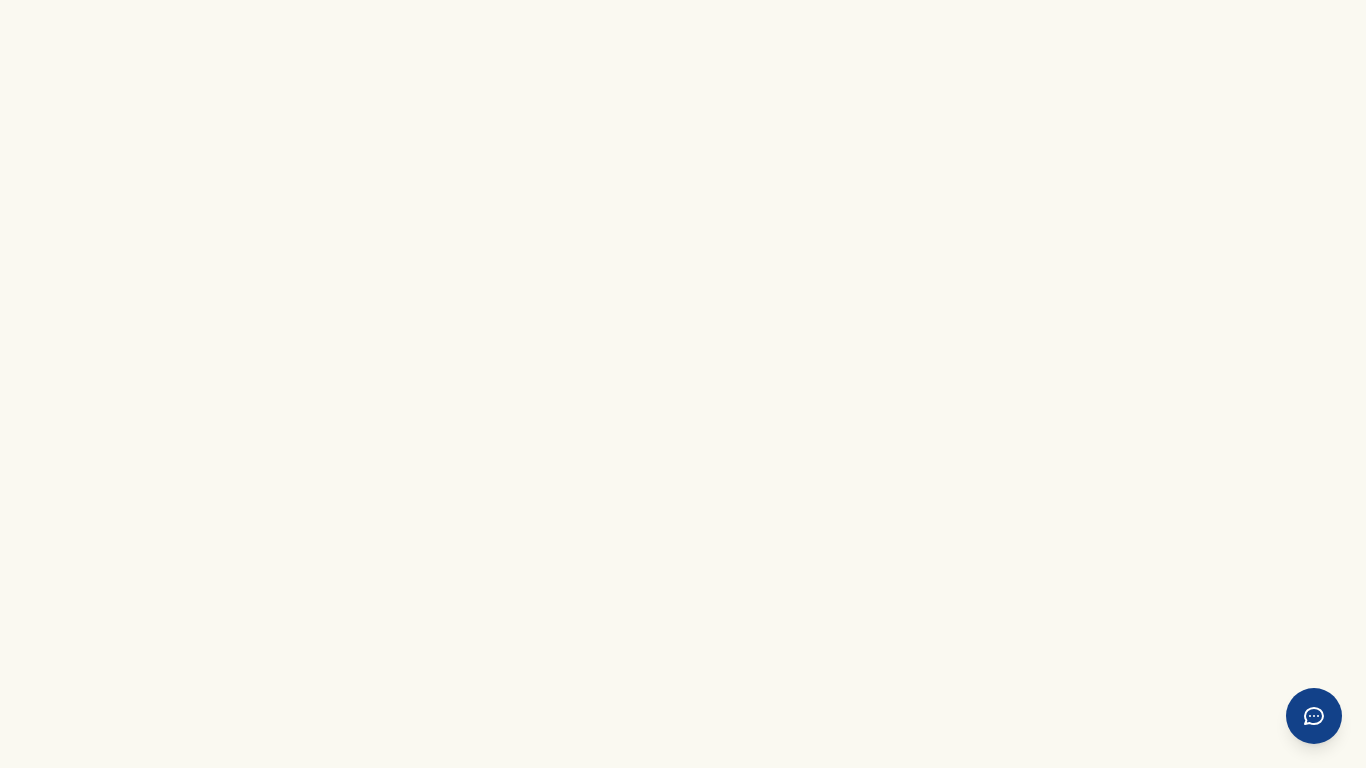
Test case: ConciergeChat › closes the panel when the close button is clicked
This screenshot has width=1366, height=768.
Click the button named "open concierge": (1314, 716) [1286,688,1342,744]
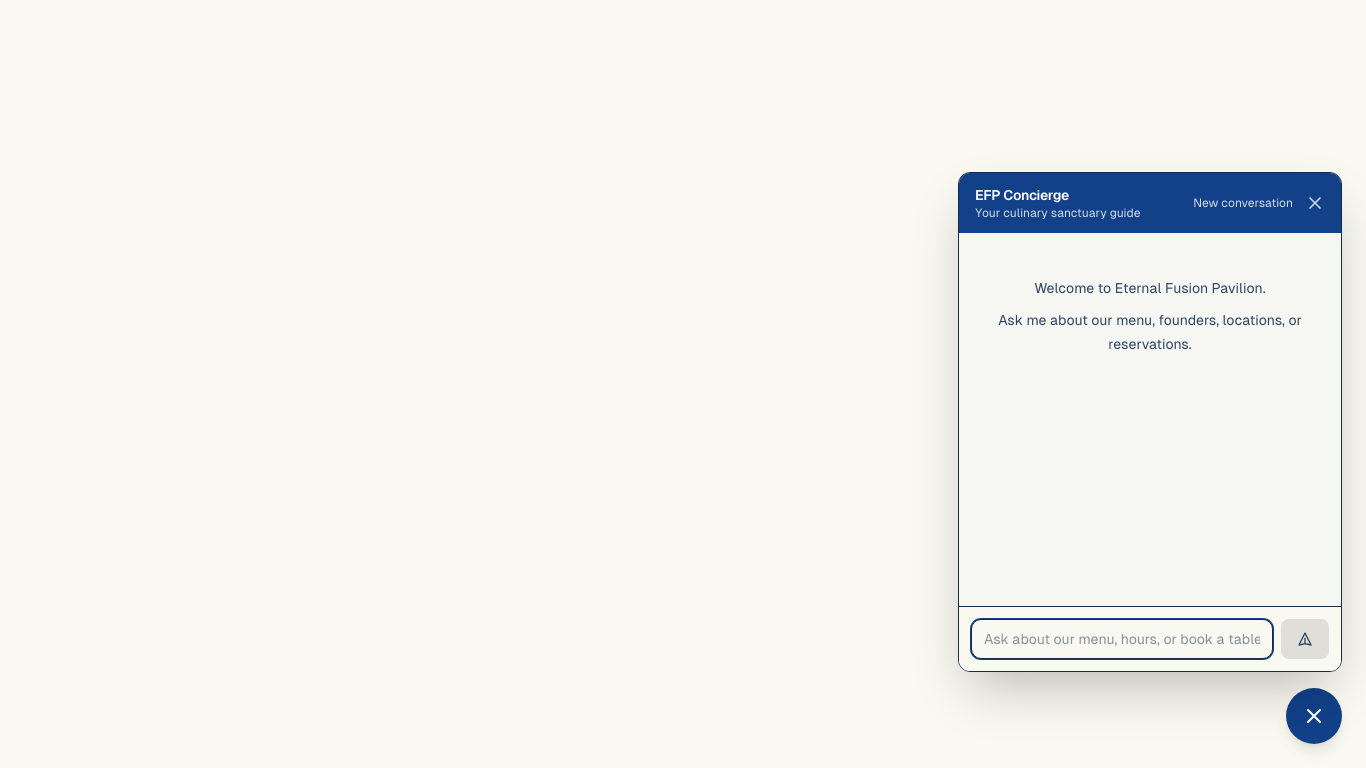
Check: the heading "EFP Concierge" is shown, box [975,187,1069,203]
Close via the close button in the header.
Click the button named "close chat": (1315, 203) [1305,193,1325,213]
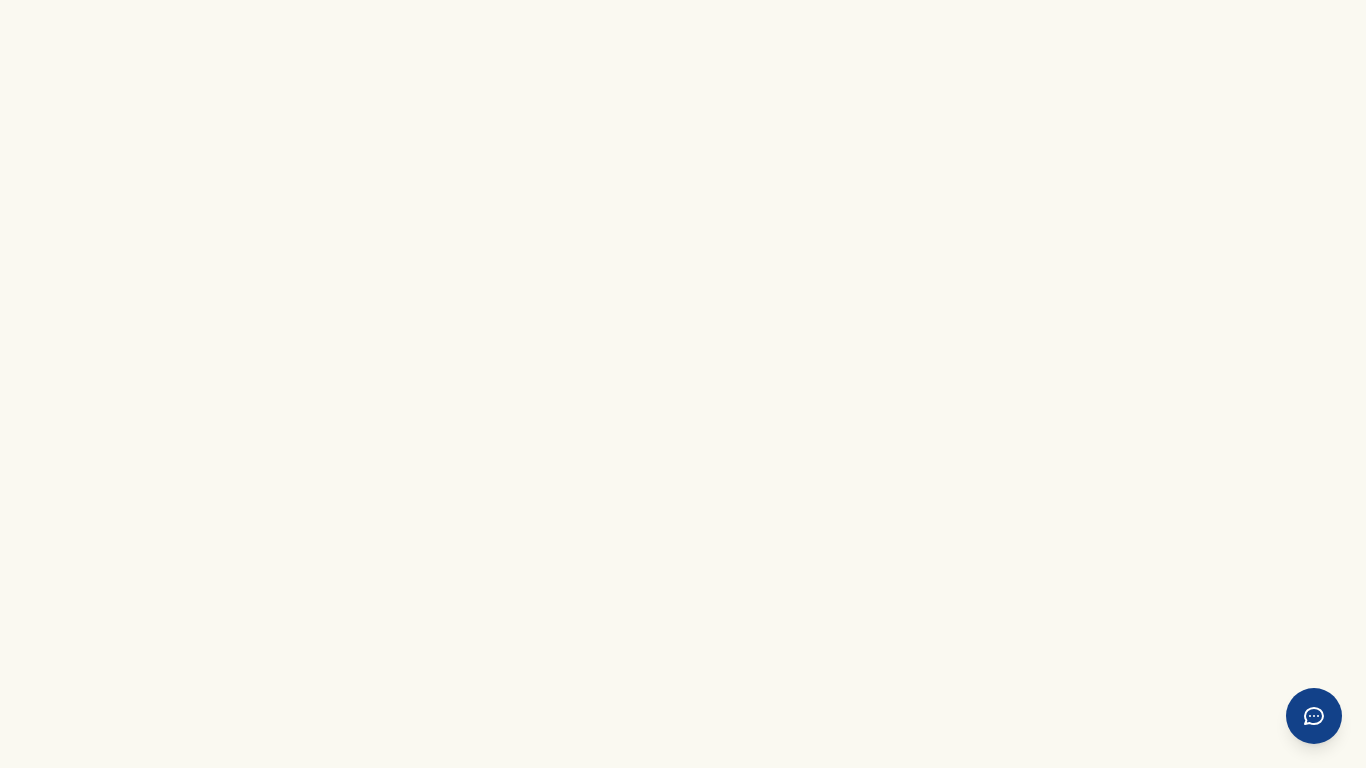
Check: the button named "open concierge" is shown, box [1286,688,1342,744]
